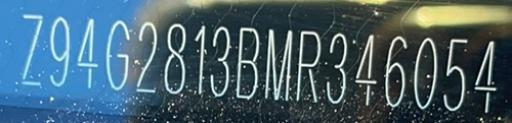letter: (472, 35, 502, 114), (263, 26, 293, 103), (294, 28, 322, 105), (352, 31, 380, 108), (103, 17, 131, 92), (442, 37, 470, 112), (18, 10, 44, 87), (46, 12, 72, 89), (162, 21, 188, 96), (234, 26, 260, 101), (382, 35, 408, 110), (412, 37, 438, 110), (324, 28, 348, 105), (74, 15, 98, 90), (209, 23, 231, 98), (135, 20, 157, 93), (192, 22, 206, 95)
